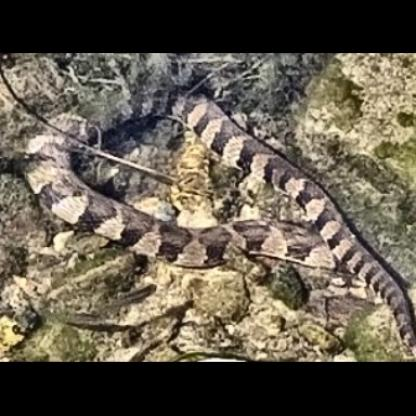Snake: (4, 73, 416, 355)
